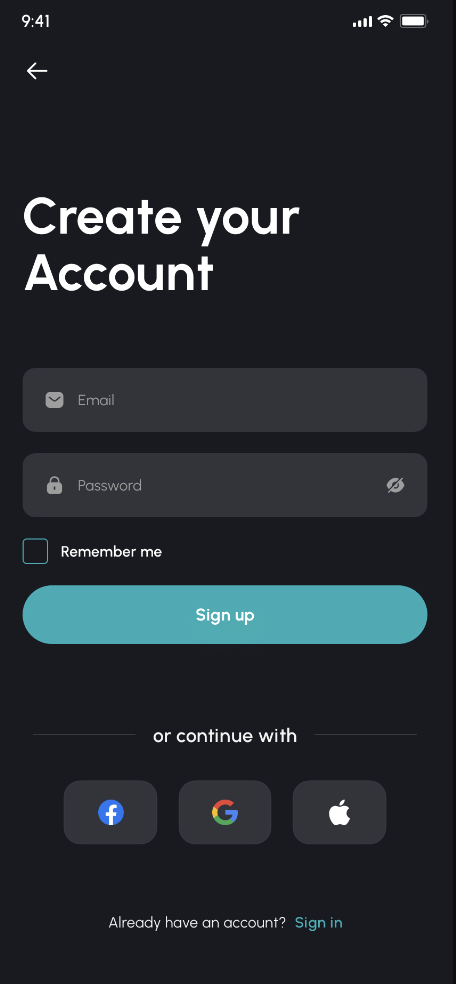Button: (19, 576, 430, 648)
IconButton: (24, 52, 49, 87)
Input: (19, 447, 430, 521), (18, 363, 430, 436)
